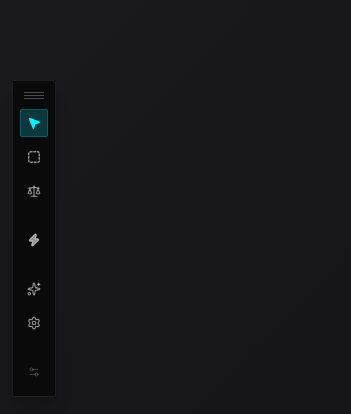
Scenario: CustomizePopover — footer › should update visible count when buttons are hidden
The width and height of the screenshot is (351, 414).
What coordinates should you click on to do the following:
click the button titled "Customize Toolbar"
I would click on:
 (34, 372)
Its box is x1=20 y1=358 x2=48 y2=386.
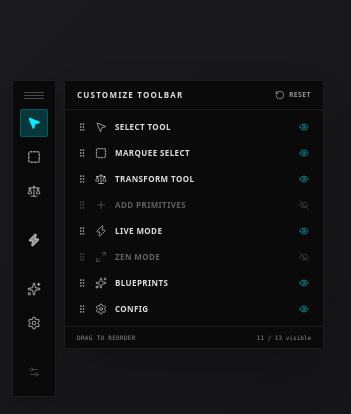
expect the text "11 / 13 visible" is shown: met, box x1=257 y1=333 x2=311 y2=342
